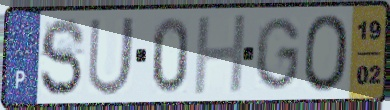0: (150, 14, 192, 97)
G: (252, 15, 302, 93)
H: (191, 11, 250, 98)
O: (303, 11, 351, 94)
S: (38, 16, 88, 99)
U: (85, 14, 139, 99)
